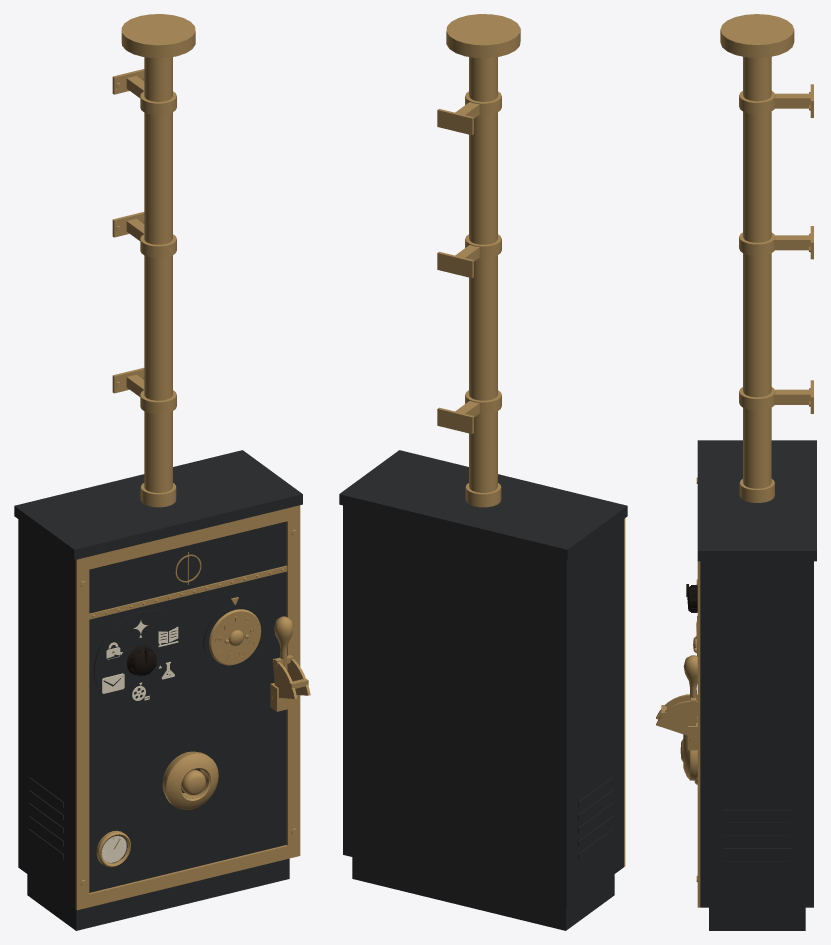
File: post_station4.glb
3 renders of one model, left to right at view 1: azimuth 30°, elevation 25°; view 2: azimuth 150°, elevation 25°; view 3: azimuth 270°, elevation 25°, orthographic.
Visible parts, largest first — view 1: post_station4, IA_post_number, IA_post_dial; view 2: post_station4; view 3: post_station4, IA_post_send.
Boxes of the visible parts, bbox=[...] form: post_station4: bbox=[14, 14, 310, 930]; IA_post_number: bbox=[209, 609, 261, 665]; IA_post_dial: bbox=[126, 645, 156, 676]; post_station4: bbox=[339, 14, 627, 930]; post_station4: bbox=[656, 14, 816, 930]; IA_post_send: bbox=[683, 655, 697, 740].
Bounding box in the file's own units: 0.92 × 3.3 × 0.5666.
